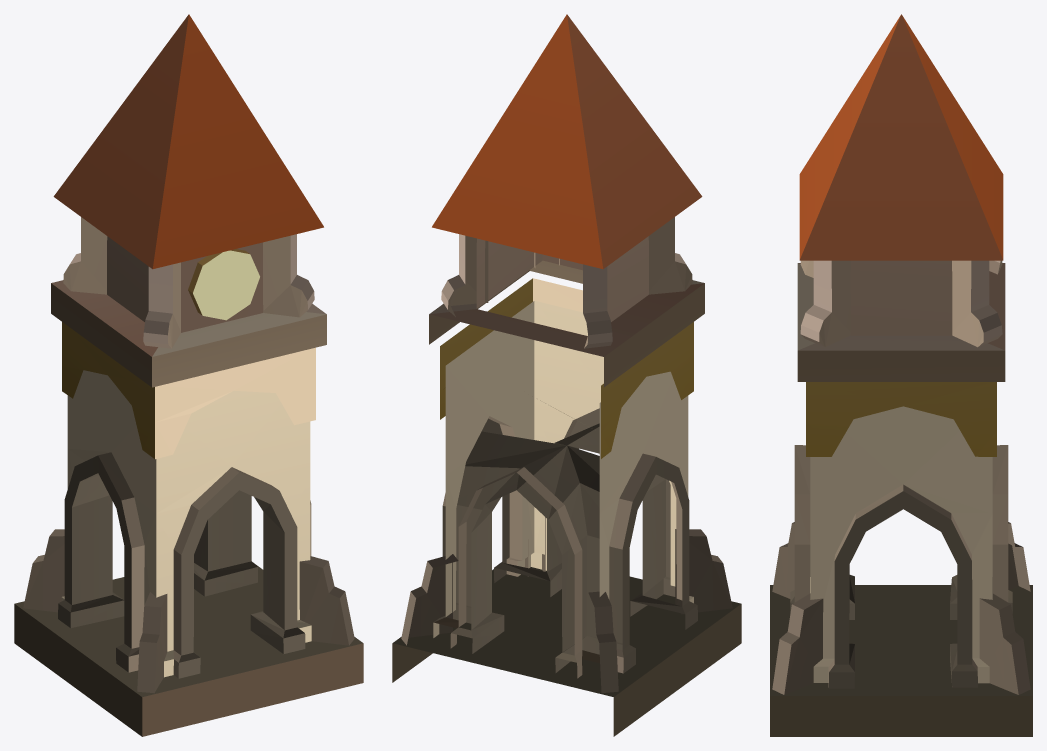
Rendered from building25.fbx.
3 views of the same model, side by side, from view 1: azimuth 30°, elevation 25°; view 2: azimuth 150°, elevation 25°; view 3: azimuth 270°, elevation 25° (orthographic). The views are drawn at different scales.
Parts seen in each view (by area): view 1: building25; view 2: building25; view 3: building25.
Part boxes in pixels (box(x1,y1,x2,y2)): building25: box(14, 14, 363, 736); building25: box(392, 14, 741, 736); building25: box(770, 14, 1032, 736).
Size of the model in its own units: 1 by 2.8 by 1.
Materials: 1 (1 with a texture image).
